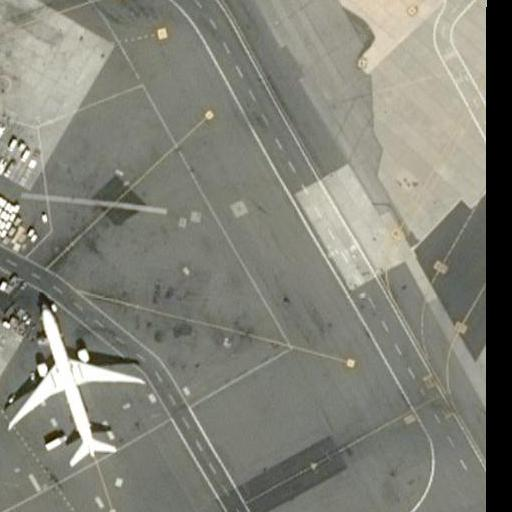Aircraft: (5, 298, 140, 466)
